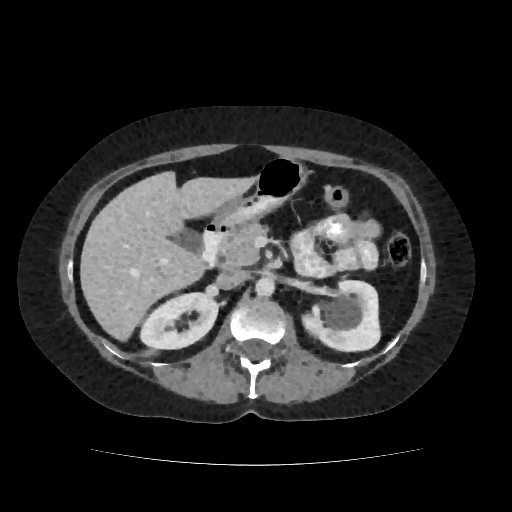Lesion: (317, 291, 367, 335)
